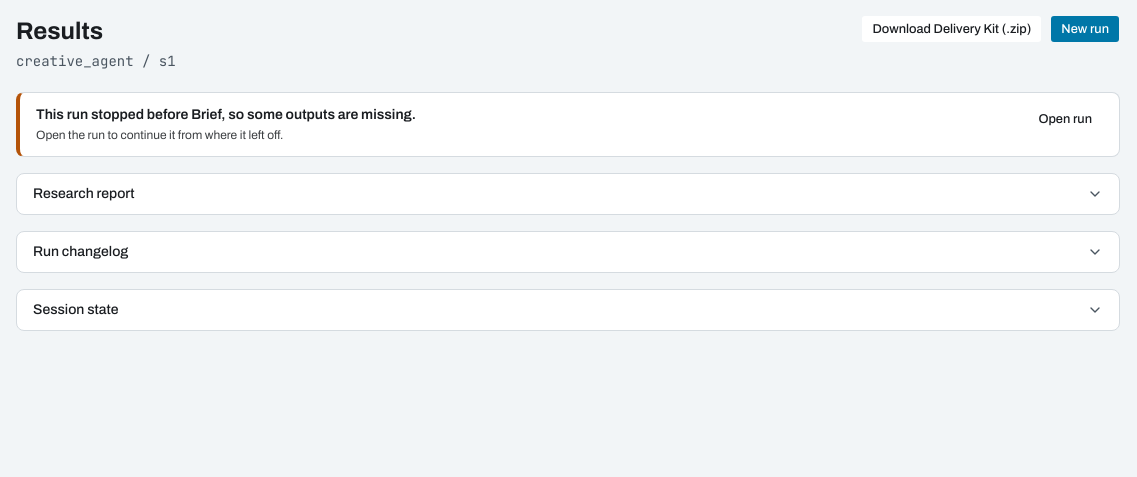
lazy panels: results page research report › mounts the report only once its disclosure is opened
Expected: the text "Lazy-loaded report body." is not shown
Click the button "Research report": (84, 193) x1=17 y1=174 x2=1119 y2=214
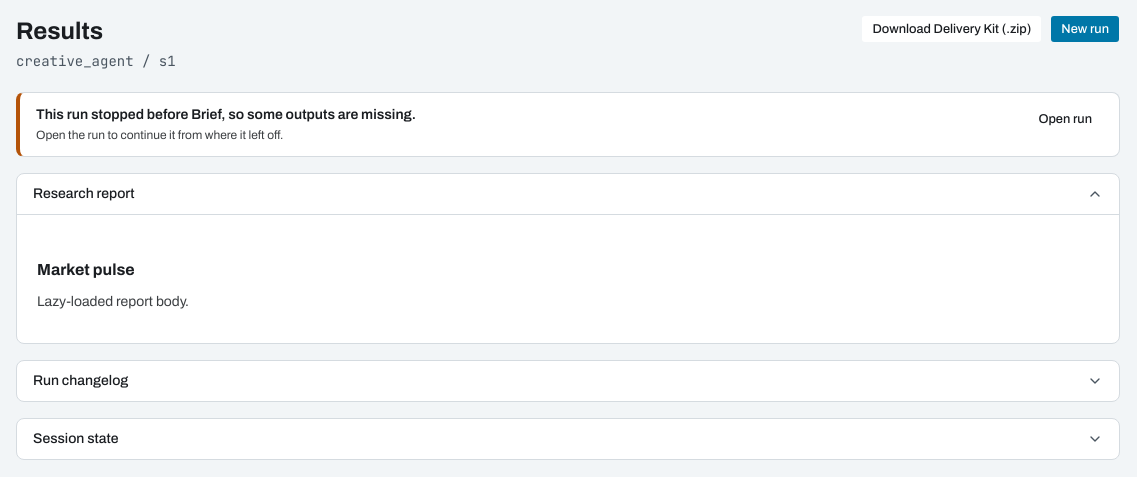
Now the text "Lazy-loaded report body." is shown, box x1=37 y1=294 x2=189 y2=308
Now the heading "Market pulse" is shown, box x1=37 y1=260 x2=135 y2=278
